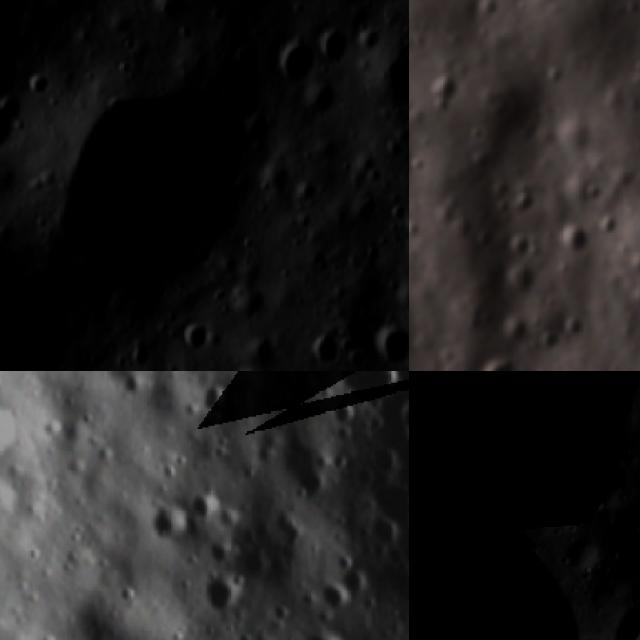crater: (53, 88, 270, 295), (409, 430, 617, 640), (381, 424, 409, 538), (140, 499, 194, 554), (334, 371, 409, 409), (525, 408, 578, 461), (286, 462, 334, 516), (196, 576, 250, 623), (311, 575, 358, 621), (551, 218, 596, 262), (359, 514, 404, 558), (183, 491, 232, 531), (336, 566, 379, 610), (284, 45, 320, 97), (373, 320, 409, 371), (0, 403, 26, 471), (379, 57, 409, 115), (0, 97, 25, 161), (474, 342, 528, 371), (310, 329, 347, 371), (578, 483, 613, 525), (561, 531, 596, 571), (198, 382, 231, 422), (185, 324, 219, 359), (609, 604, 640, 640), (326, 33, 355, 70), (468, 0, 504, 26), (251, 341, 283, 365), (27, 76, 54, 104), (401, 406, 409, 440)
